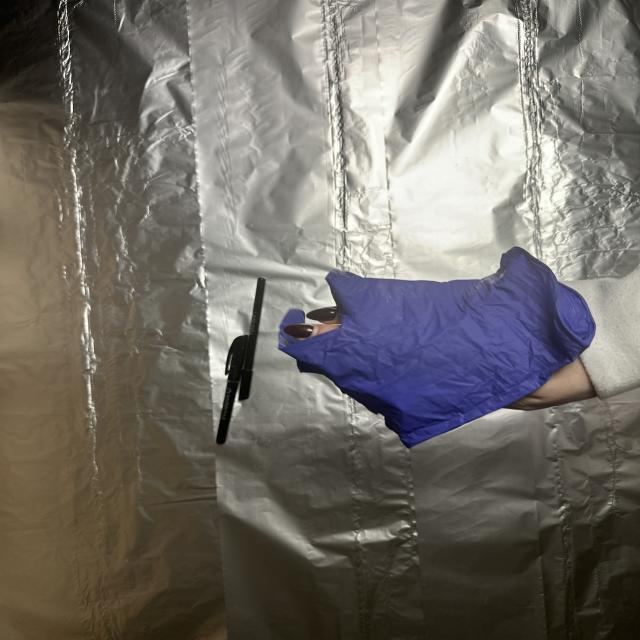glove_not_fitted: (278, 265, 601, 444)
